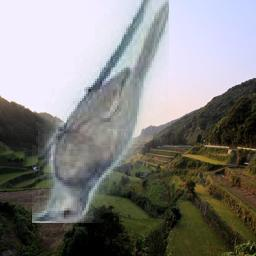Cuckoo: (33, 1, 170, 224)
